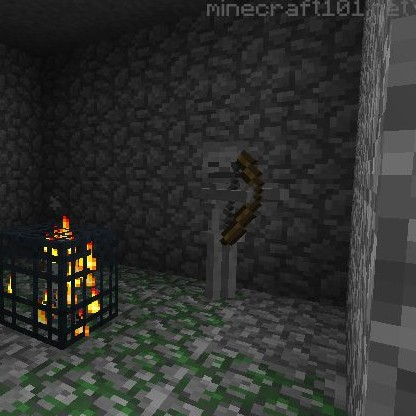skeleton: (196, 135, 267, 241)
